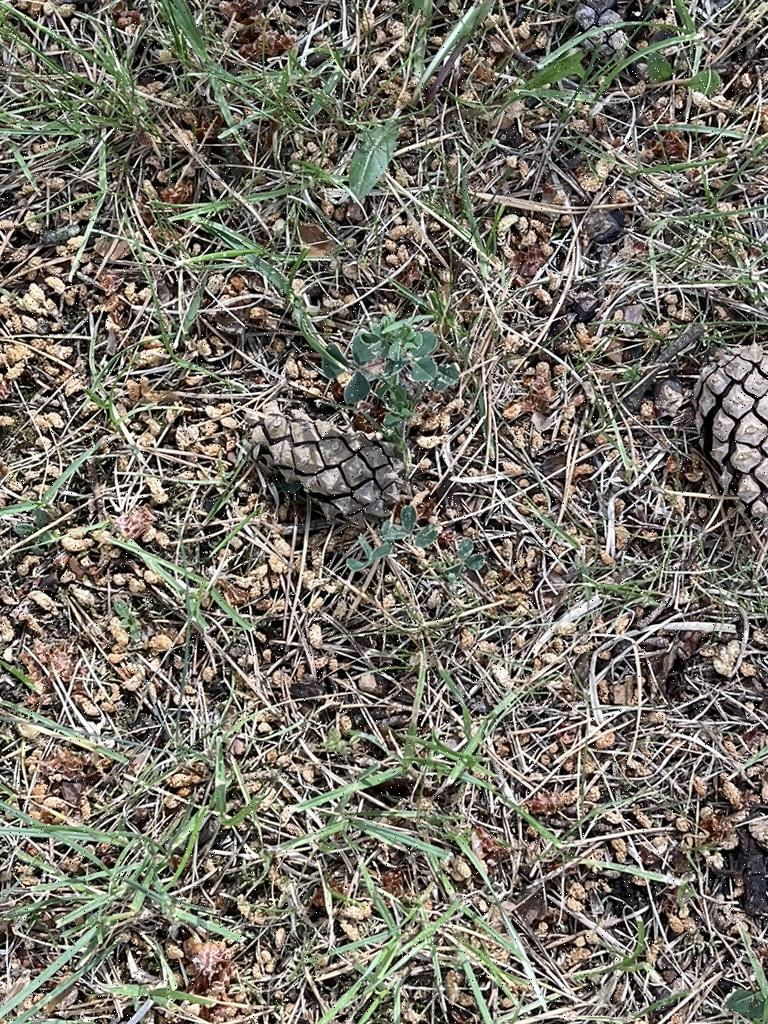pine: (251, 406, 421, 533), (686, 328, 768, 528)
